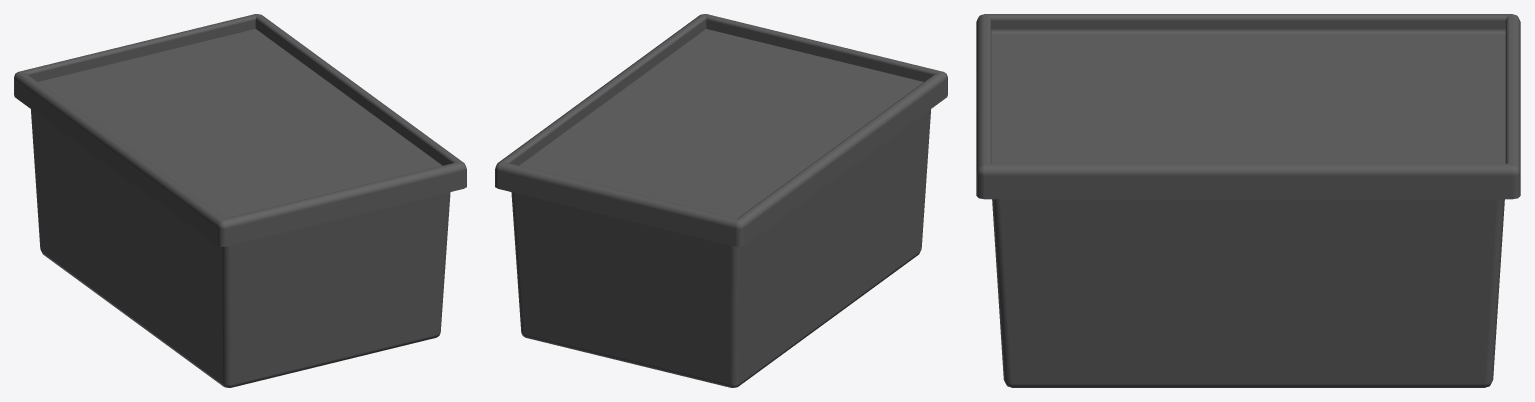
File: SSCContainer4b.fbx
The picture shows the model from 3 angles, left to right: view 1: azimuth 30°, elevation 25°; view 2: azimuth 150°, elevation 25°; view 3: azimuth 270°, elevation 25°; orthographic projection. The views are drawn at different scales.
Parts seen in each view (by area): view 1: SSCContainer4b; view 2: SSCContainer4b; view 3: SSCContainer4b.
Part boxes in pixels (x1=…): SSCContainer4b: x1=14, y1=14, x2=466, y2=387; SSCContainer4b: x1=495, y1=14, x2=947, y2=387; SSCContainer4b: x1=976, y1=14, x2=1520, y2=387.
Bounding box in the file's own units: 43.54 × 30 × 63.54.
